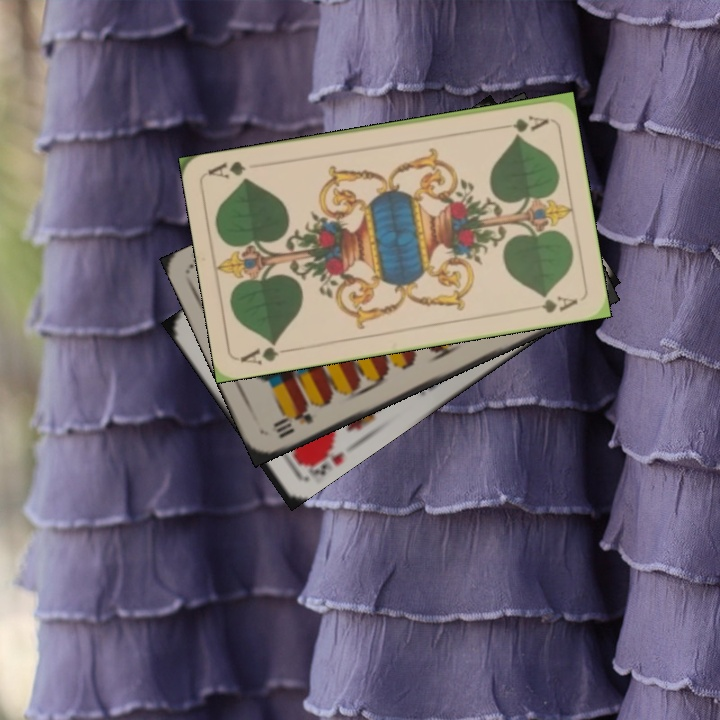E10: (269, 400, 320, 441)
GA: (237, 337, 296, 367), (492, 111, 552, 135)
HK: (293, 437, 347, 485)
